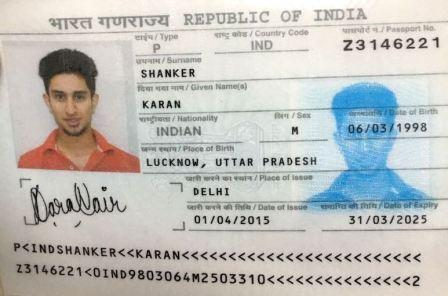DOB: (337, 121, 431, 135)
Surname: (138, 63, 205, 82)
country_code: (247, 35, 280, 51)
date_of_expiry: (336, 208, 433, 226)
date_of_issue: (185, 212, 283, 226)
details: (4, 242, 431, 291)
name: (137, 97, 189, 112)
nationality: (146, 122, 209, 138)
passport_no: (341, 35, 442, 50)
photo: (18, 38, 140, 165)
place_of_birth: (140, 152, 323, 169)
place_of_issue: (183, 185, 259, 198)
sex: (285, 121, 308, 137)
sign: (23, 183, 132, 224)
type: (148, 41, 166, 56)
